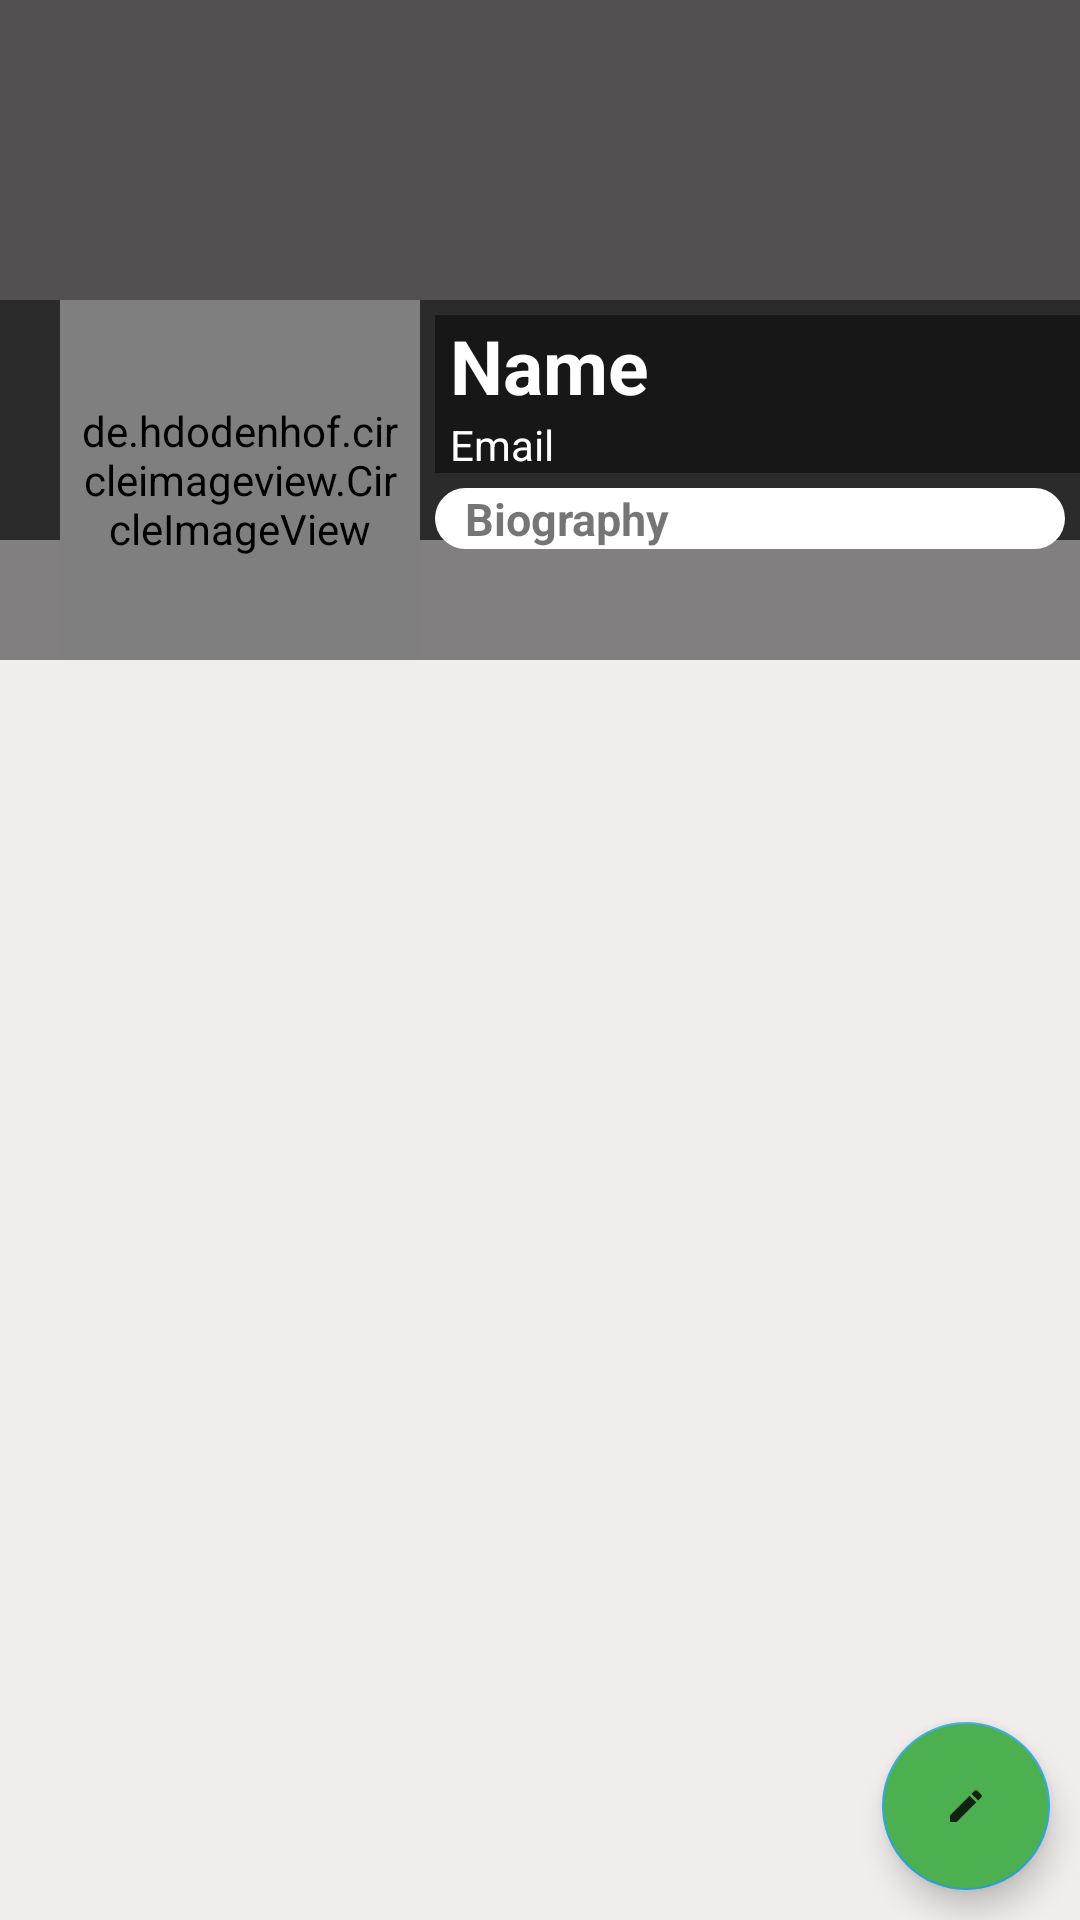

Icons on this 1080×1920 Android screen, each with the point to tap as (x,y):
edit: (966,1806)
